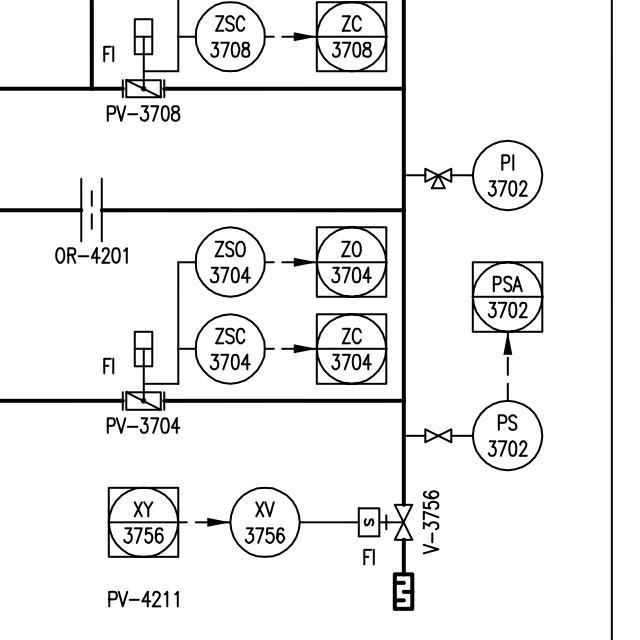3W: (419, 163, 455, 192)
BVWA: (117, 10, 169, 101), (120, 325, 168, 414)
GV: (422, 423, 455, 446)
O: (72, 170, 108, 245)
SV: (349, 497, 414, 543)
